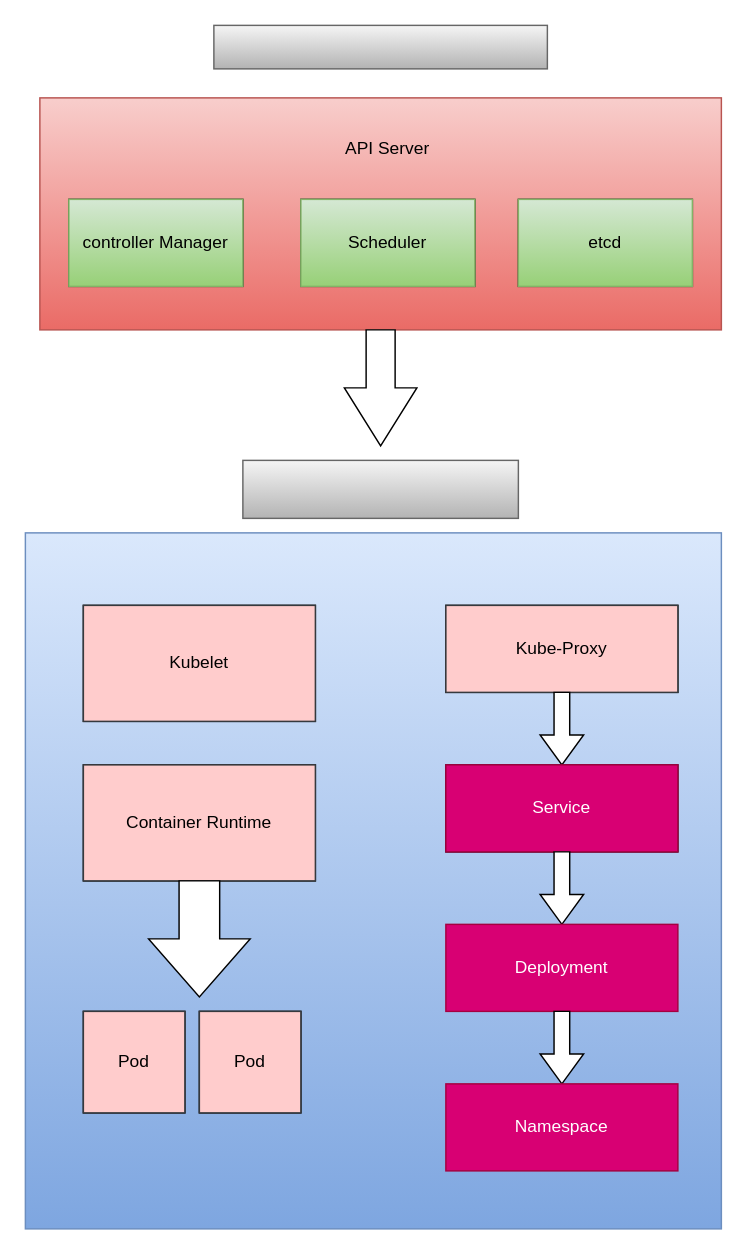
This 747x1254 diagram has some shape labels left out. The shapes that lost their labels are listed below. From the top down, each one's centre as x and y in pixels, then its label:
At [379,46]: "MASTER NODE".
At [379,488]: "WORKER NODE".
